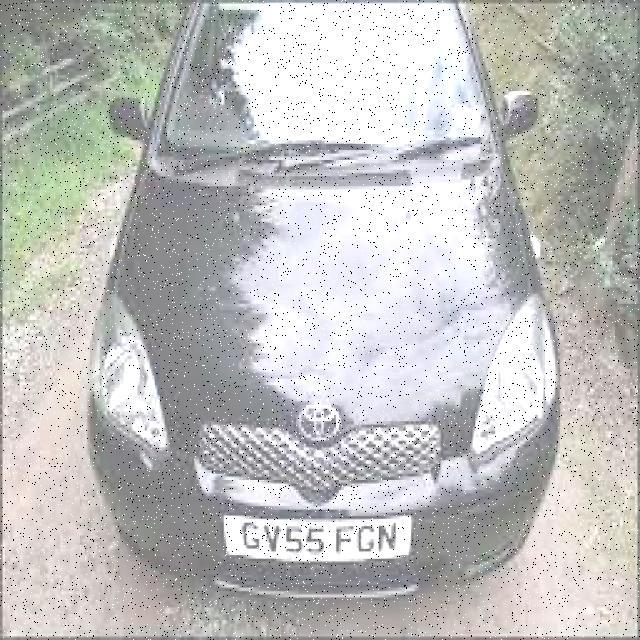car damage: (239, 300, 354, 407)
